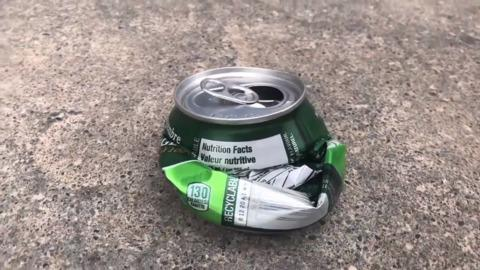metal: (148, 62, 351, 239)
